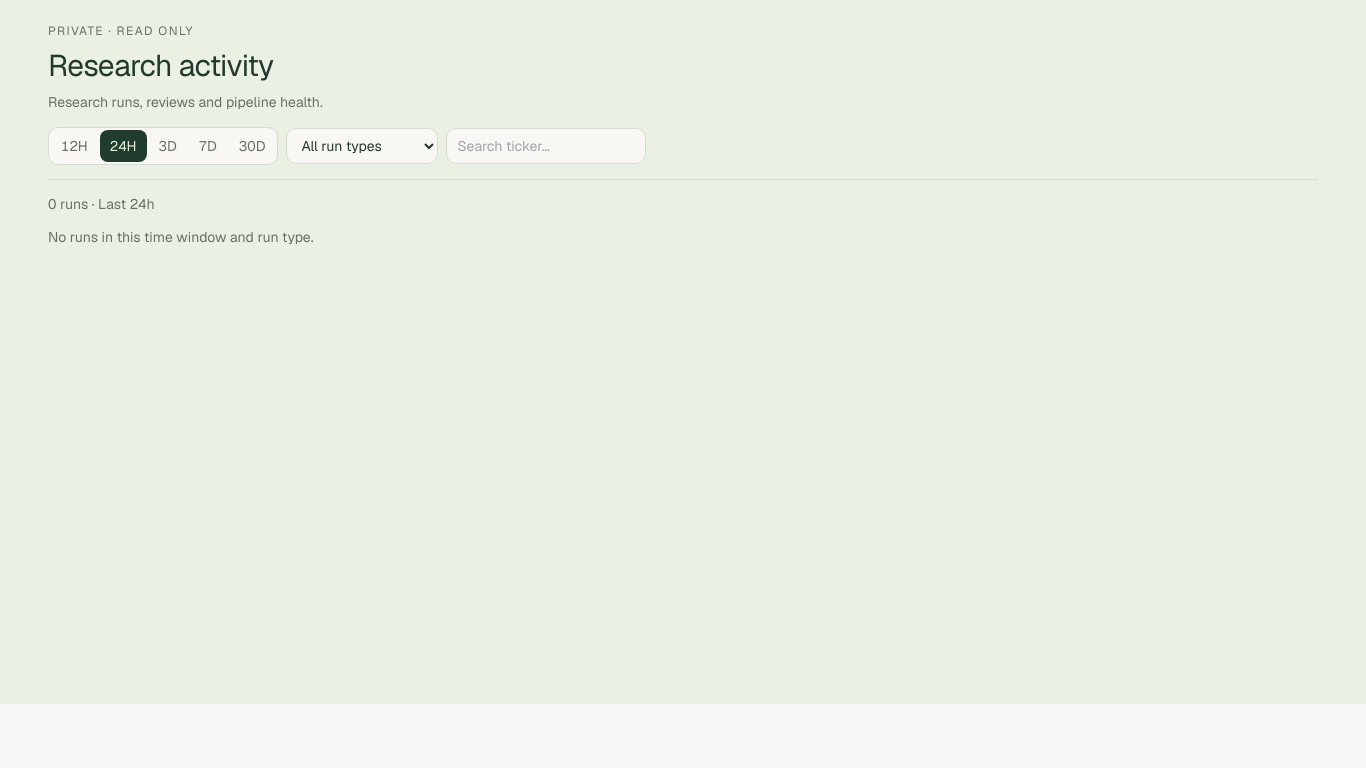
Test: research activity page › includes the 3D boundary and excludes older and future runs
This screenshot has width=1366, height=768.
Click the button "3D": (168, 146) [149, 130, 187, 162]
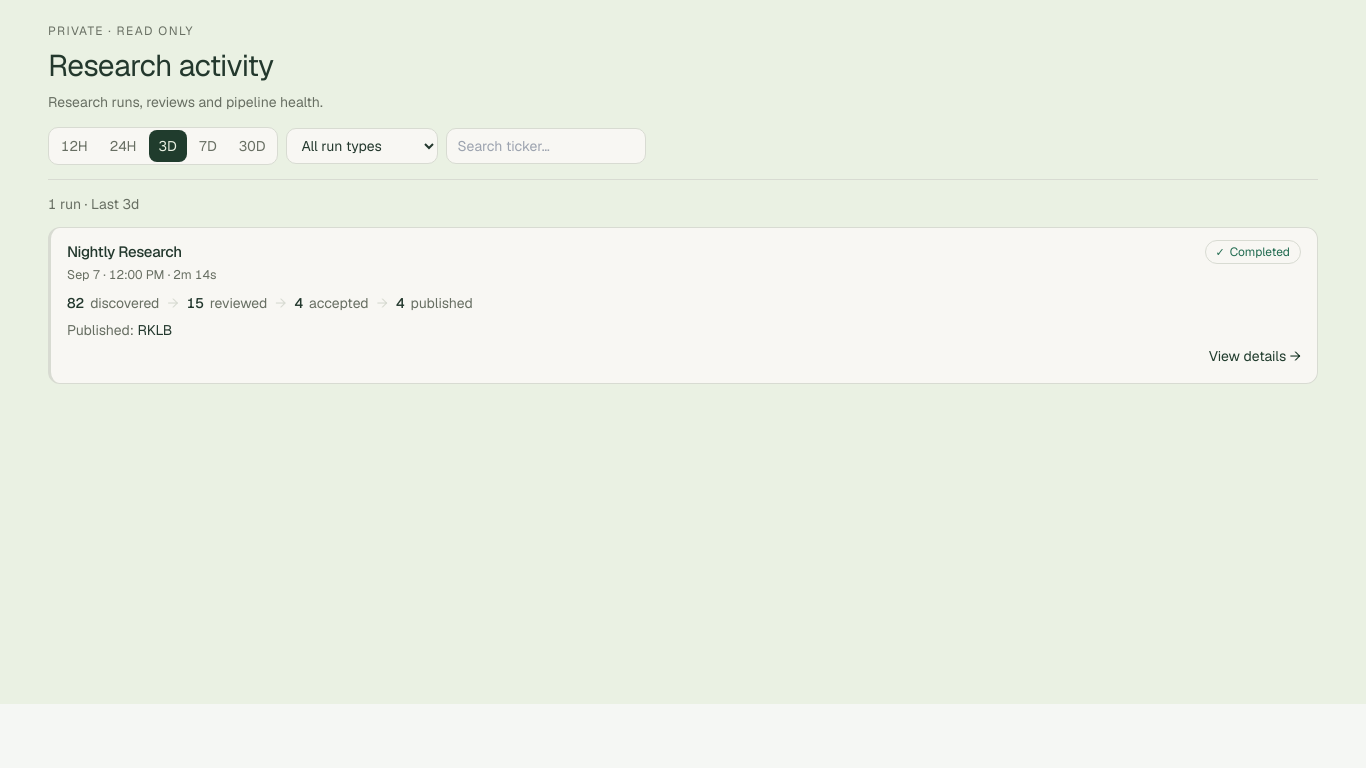
Expected: the message shows "1 run ·", [48, 195, 139, 213]
